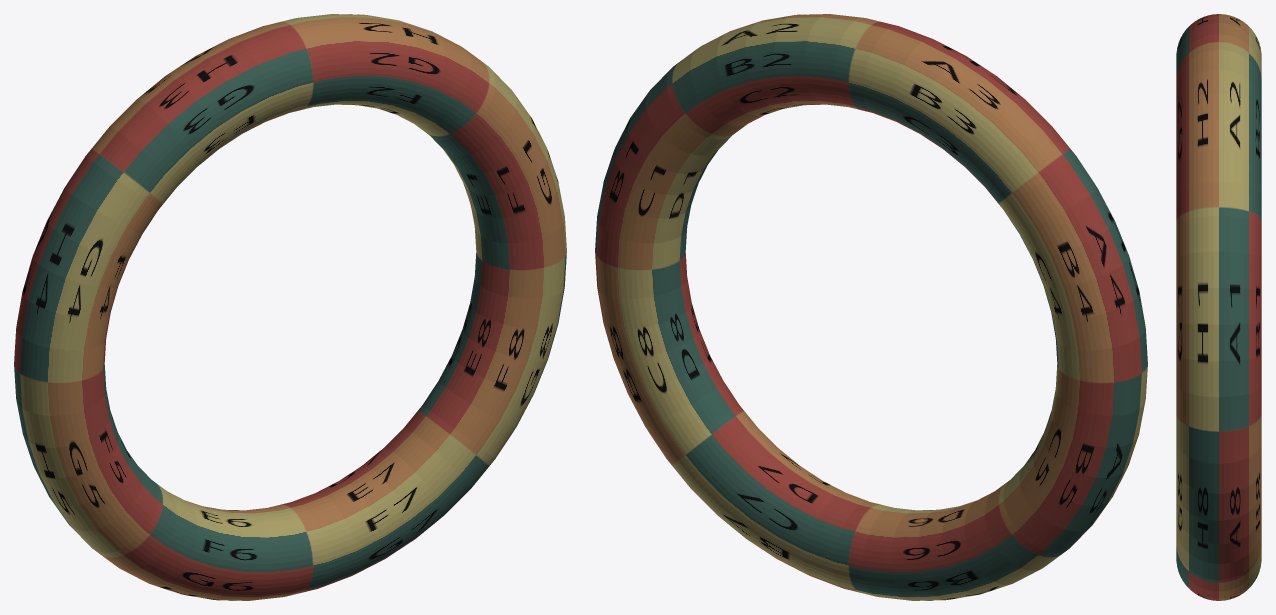
File: texture_torus_R5_r1.glb
The picture shows the model from 3 angles, left to right: view 1: azimuth 30°, elevation 25°; view 2: azimuth 150°, elevation 25°; view 3: azimuth 270°, elevation 25°; orthographic projection. The views are drawn at different scales.
Visible parts, largest first — view 1: world; view 2: world; view 3: world.
Part boxes in pixels (left/top/right/bottom): world: left=14, top=14, right=566, bottom=600; world: left=595, top=14, right=1147, bottom=600; world: left=1176, top=14, right=1261, bottom=600.
Bounding box in the file's own units: 15.6 × 15.57 × 2.26.
1 material, 1 textured.
